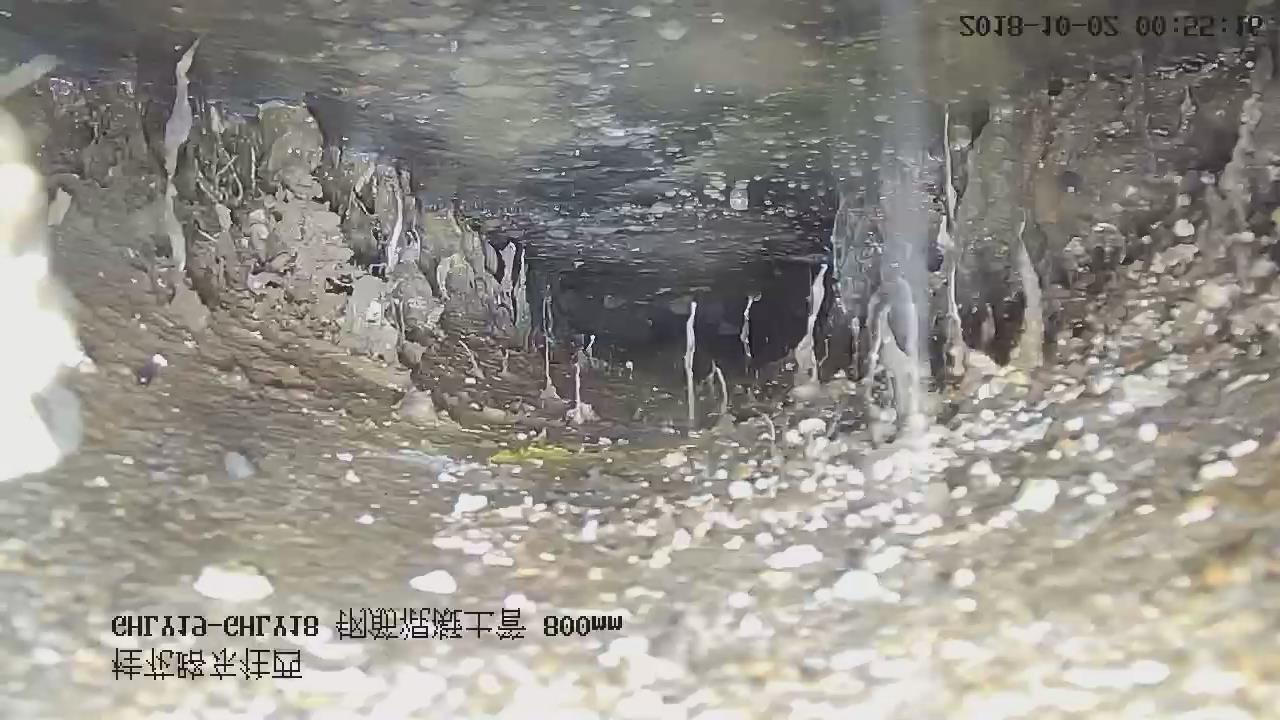FZ: (0, 1, 1259, 338)
JG: (0, 43, 1279, 720)
